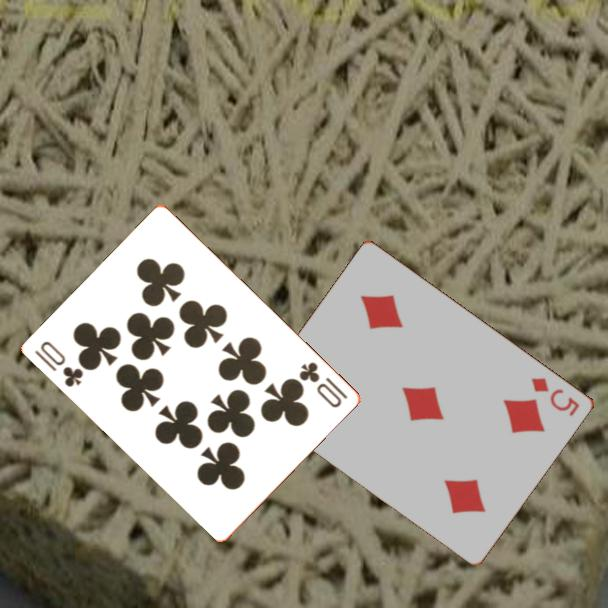c10: (31, 337, 87, 390), (296, 358, 351, 411)
d05: (528, 374, 583, 419)
